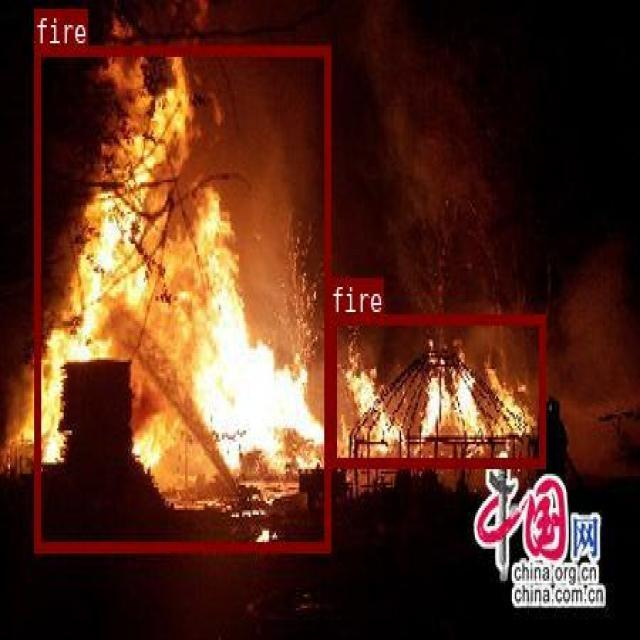fire: (34, 45, 330, 551), (329, 313, 544, 465)
